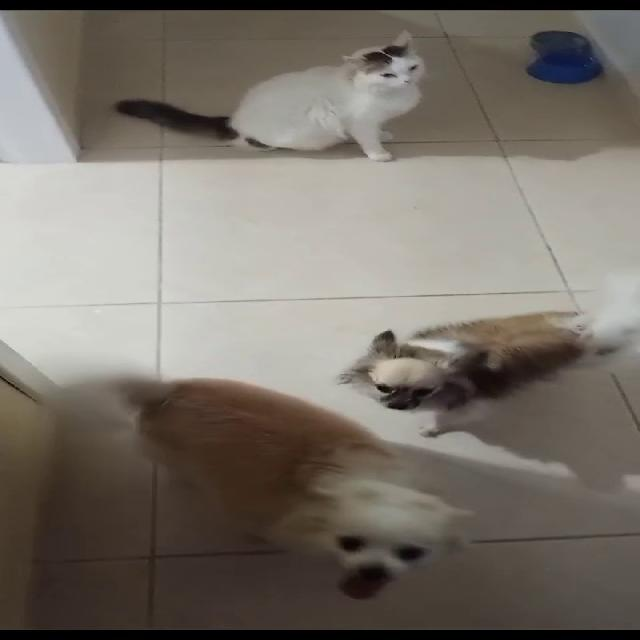Pedrita: (358, 284, 638, 426)
Simba: (160, 20, 498, 168)
Theo: (74, 340, 486, 630)
